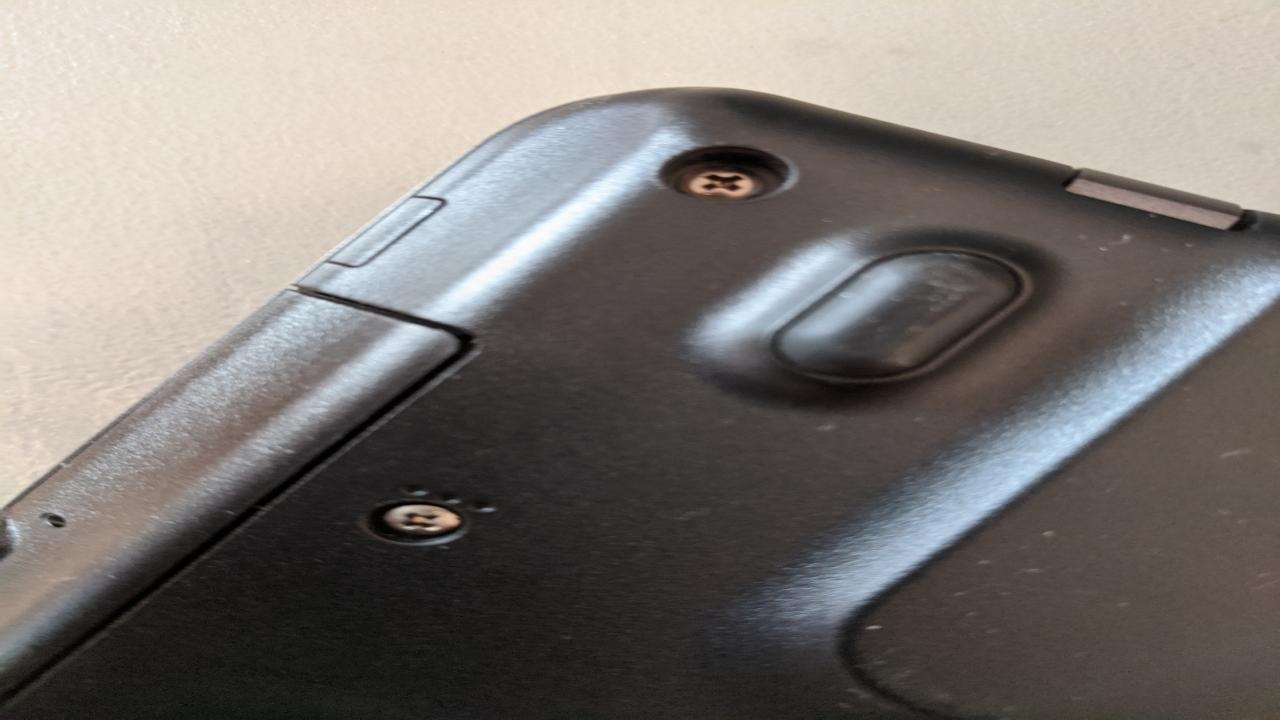CRS: (675, 154, 774, 204), (381, 503, 468, 538)
